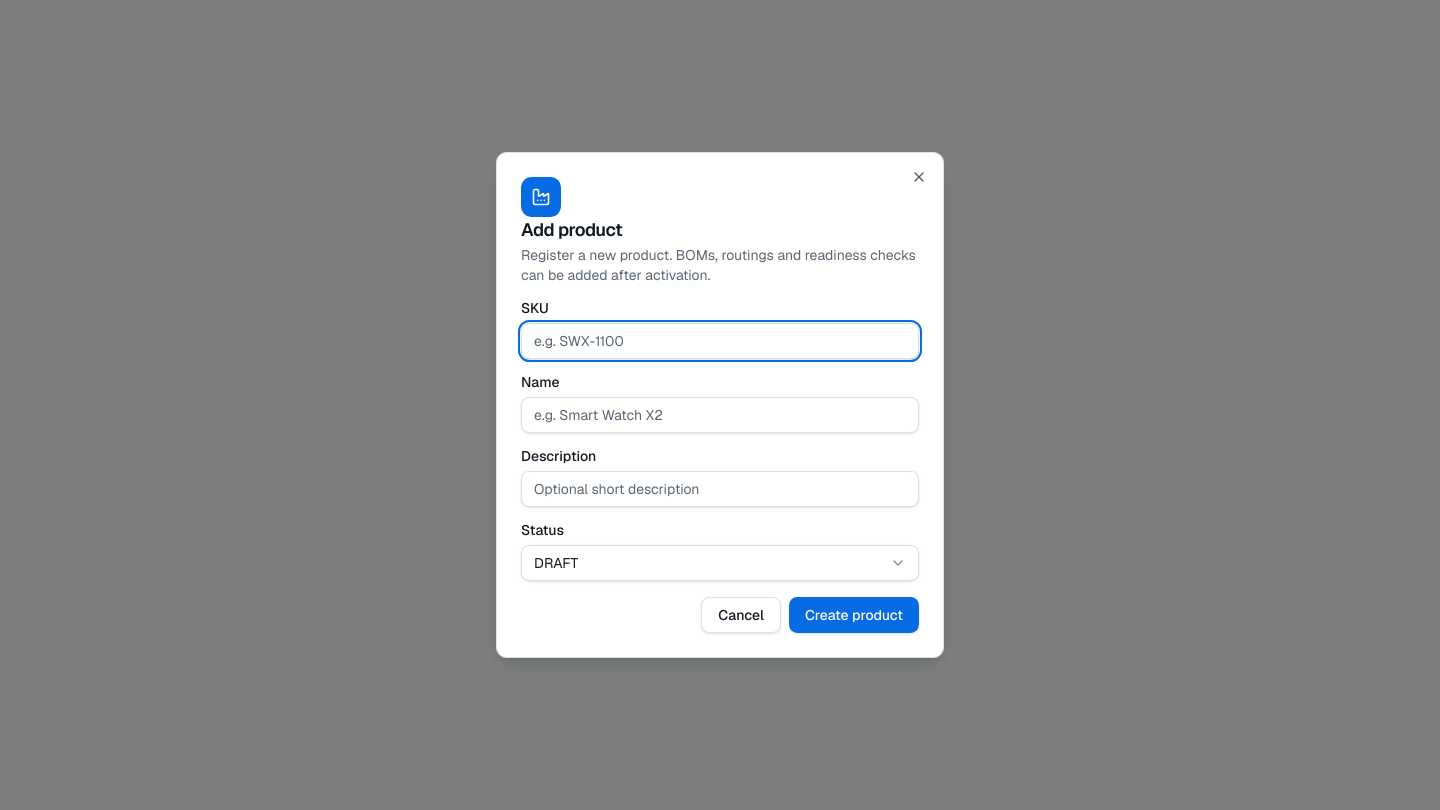
Test: AddProductDialog › surfaces server-side errors (e.g. duplicate SKU) instead of closing
This screenshot has width=1440, height=810.
Type "SWX-1000" into the field labelled "SKU". click: (720, 341)
box: [521,323,919,359]
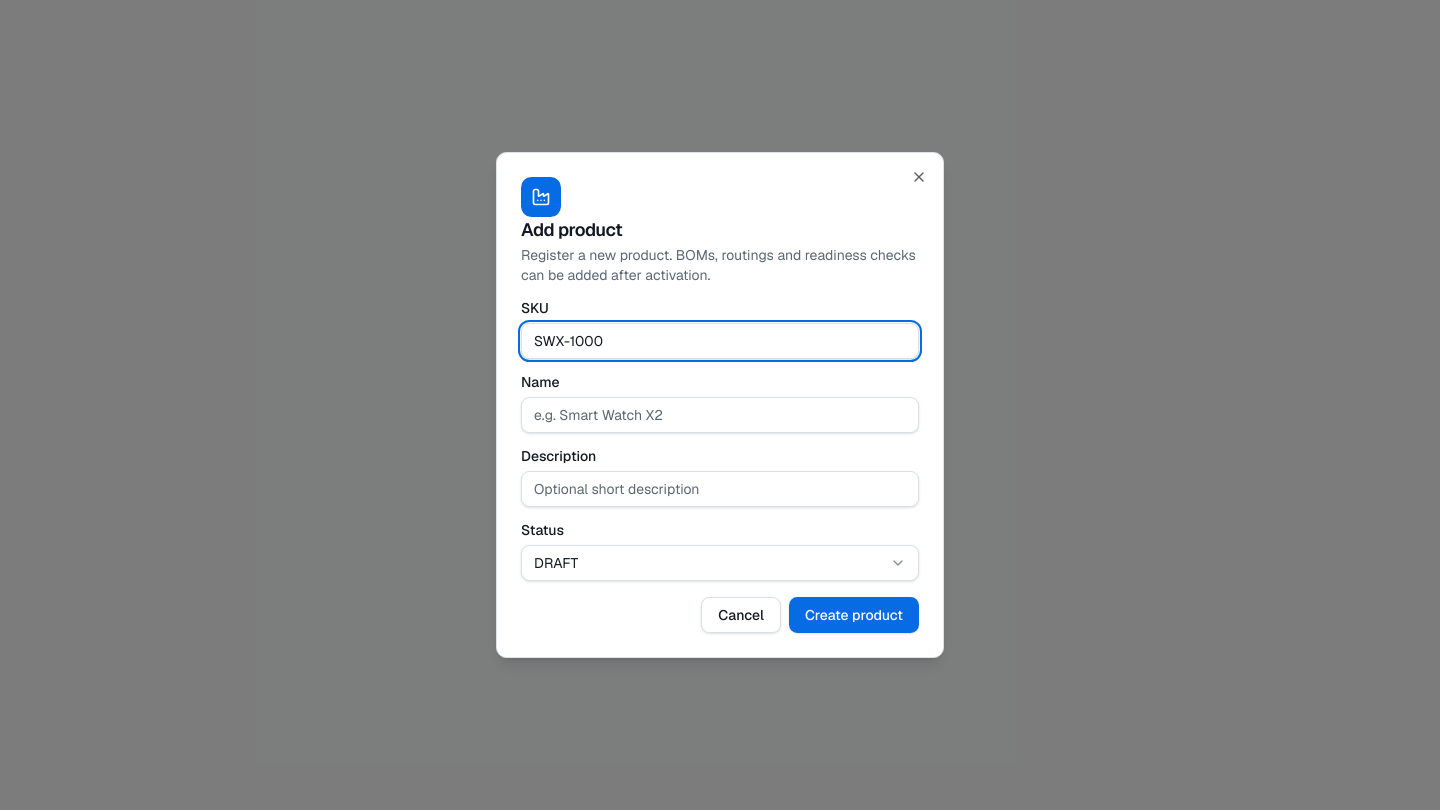
Type "Duplicate" into the field labelled "Name". click: (720, 415)
box: [521,397,919,433]
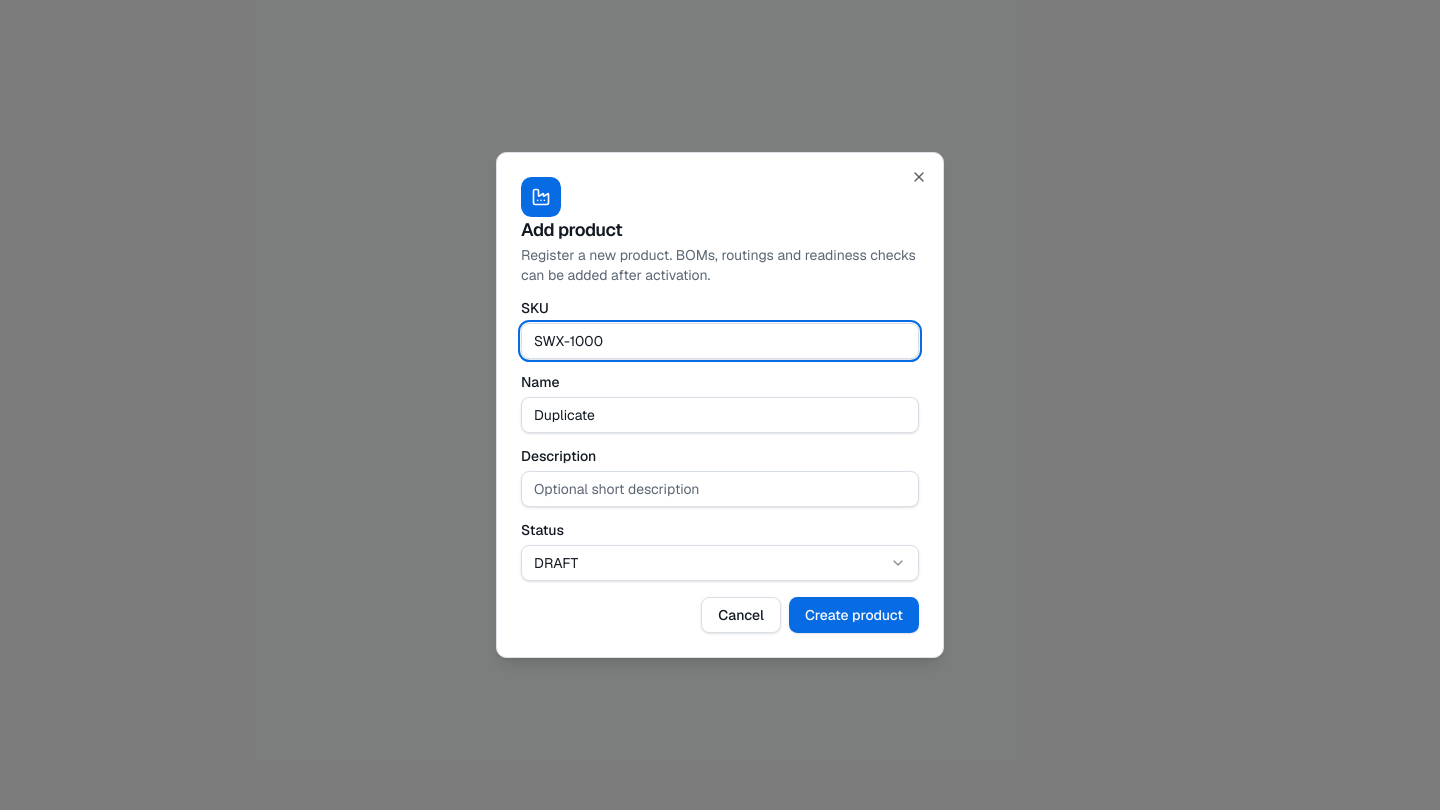
Click the button "Create product". click: click(854, 615)
box: [789,597,919,633]
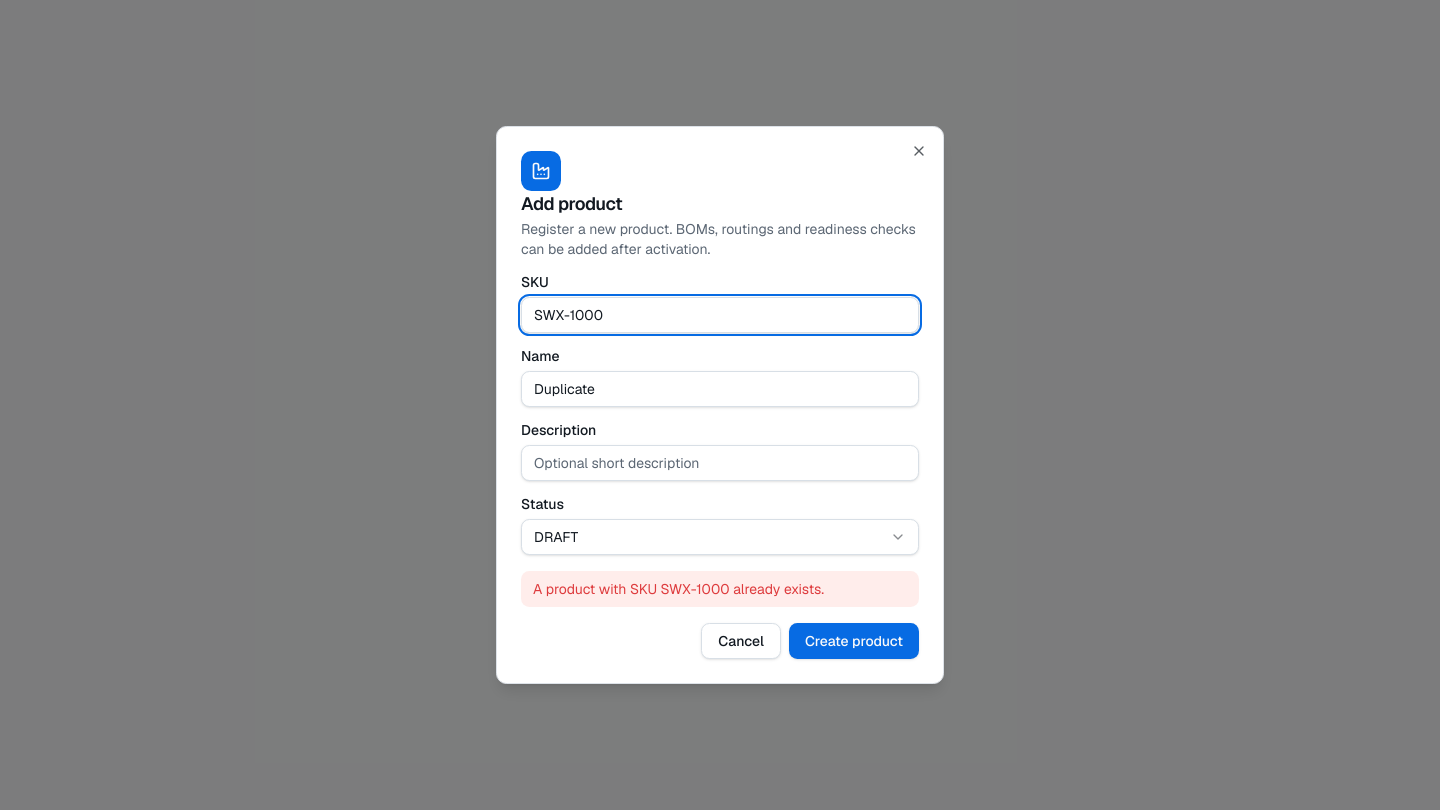
Result: the text "A product with SKU SWX-1000 already exists." is shown at [521,571,919,607]
